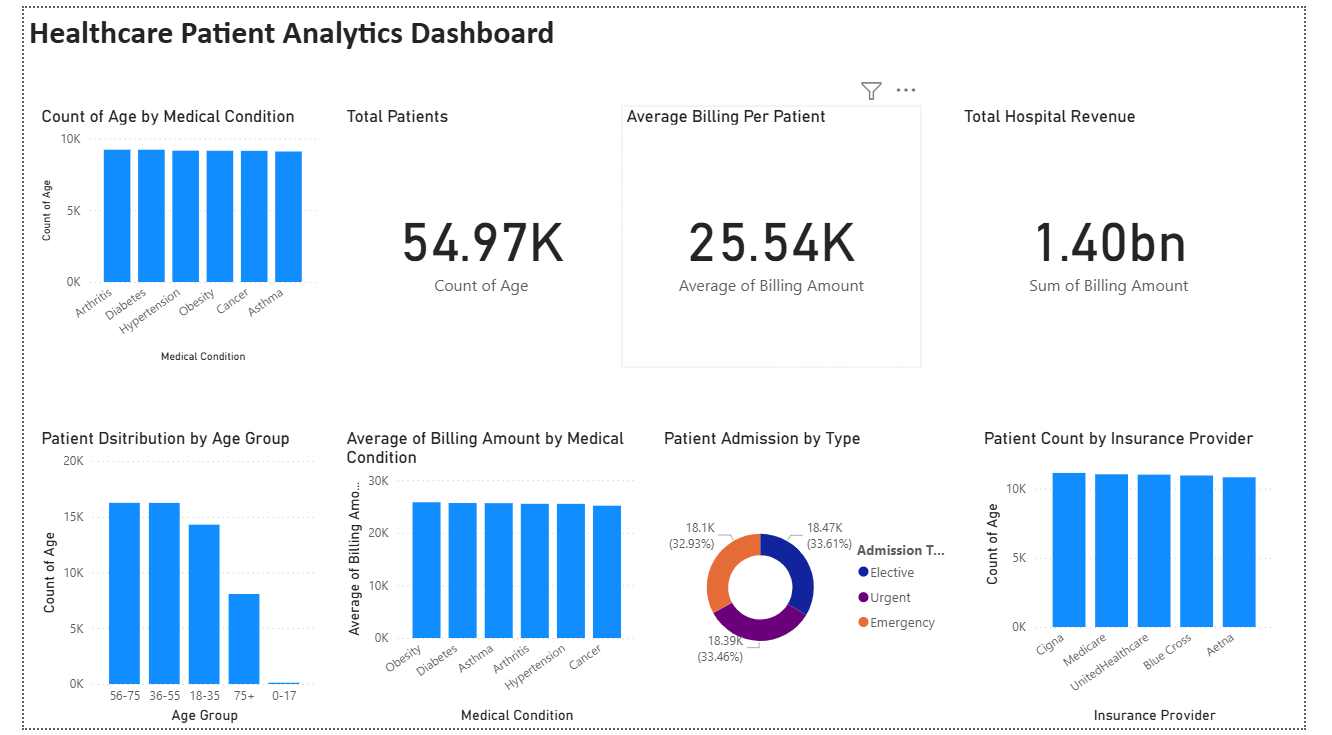

The page's visual inventory and layout, read from the dashboard file:
{"tool":"powerbi","page":{"name":"Healthcare_dashboard","canvas":[1280,720],"ordinal":0},"visuals":[{"type":"clusteredColumnChart","fields":{"Category":["healthcare_dataset csv.Medical Condition"],"Y":["CountNonNull(healthcare_dataset csv.Age)"]},"box":[12.5,97.5,285,262.5],"z":0},{"type":"clusteredColumnChart","fields":{"Category":["healthcare_dataset csv.Medical Condition"],"Y":["Avg(healthcare_dataset csv.Billing Amount)"]},"box":[317.5,420,300,300],"z":1},{"type":"donutChart","title":"Patient Admission by Type","fields":{"Category":["healthcare_dataset csv.Admission Type"],"Y":["CountNonNull(healthcare_dataset csv.Age)"]},"box":[635,420,300,300],"z":2},{"type":"clusteredColumnChart","title":"Patient Count by Insurance Provider","fields":{"Category":["healthcare_dataset csv.Insurance Provider"],"Y":["CountNonNull(healthcare_dataset csv.Age)"]},"box":[955,420,300,300],"z":3},{"type":"clusteredColumnChart","title":"Patient Dsitribution by Age Group","fields":{"Category":["healthcare_dataset csv.Age Group"],"Y":["CountNonNull(healthcare_dataset csv.Age)"]},"box":[12.5,420,285,300],"z":4},{"type":"card","title":"Total Patients","fields":{"Values":["CountNonNull(healthcare_dataset csv.Age)"]},"box":[317.5,97.5,280,262.5],"z":5},{"type":"card","title":"Average Billing Per Patient","fields":{"Values":["Avg(healthcare_dataset csv.Billing Amount)"]},"box":[597.5,97.5,300,262.5],"z":6},{"type":"card","title":"Total Hospital Revenue","fields":{"Values":["Sum(healthcare_dataset csv.Billing Amount)"]},"box":[935,97.5,300,262.5],"z":7},{"type":"textbox","box":[0,0,542.5,67.5],"z":8}]}

Visuals, with their boxes in screenshot pixels (x1, y1, x2, y2), scaled from the page's 1280x720 canvas onto the 1332x735 screenshot:
clusteredColumnChart - healthcare_dataset csv.Medical Condition x CountNonNull(healthcare_dataset csv.Age): box(13, 100, 310, 368)
clusteredColumnChart - healthcare_dataset csv.Medical Condition x Avg(healthcare_dataset csv.Billing Amount): box(330, 429, 643, 734)
"Patient Admission by Type" donutChart: box(661, 429, 973, 734)
"Patient Count by Insurance Provider" clusteredColumnChart: box(994, 429, 1306, 734)
"Patient Dsitribution by Age Group" clusteredColumnChart: box(13, 429, 310, 734)
"Total Patients" card: box(330, 100, 622, 368)
"Average Billing Per Patient" card: box(622, 100, 934, 368)
"Total Hospital Revenue" card: box(973, 100, 1285, 368)
textbox: box(0, 0, 565, 69)
